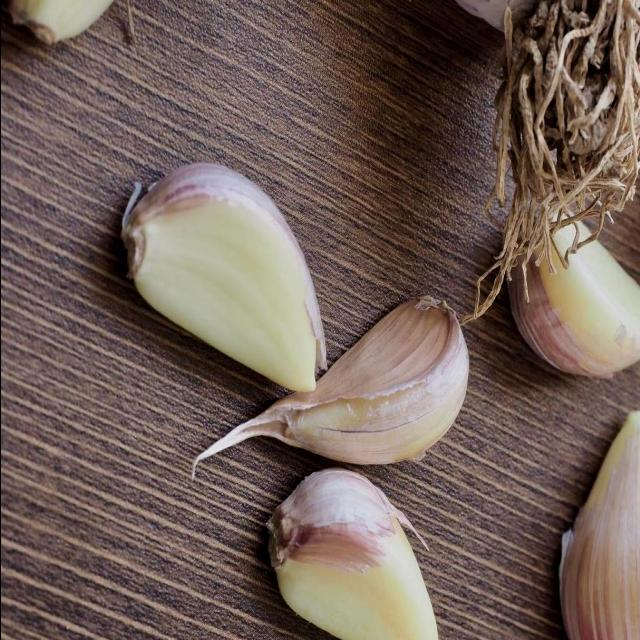garlic: (113, 172, 325, 401), (509, 384, 640, 640), (267, 465, 453, 640), (263, 299, 469, 456), (469, 201, 640, 383)
